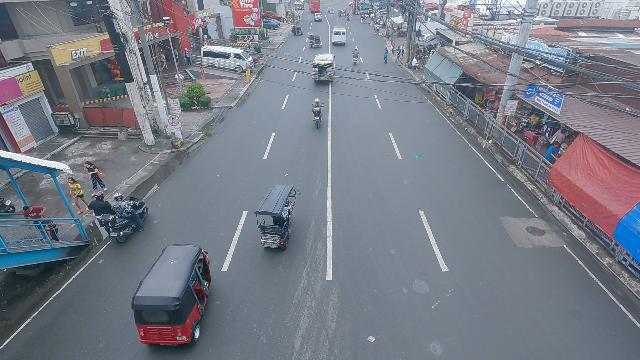car: (314, 13, 323, 22)
jeepney: (312, 52, 336, 85)
motorcycle: (309, 98, 325, 130), (351, 47, 359, 66), (347, 13, 350, 21)
truck: (309, 0, 321, 12)
van: (330, 26, 348, 47)
